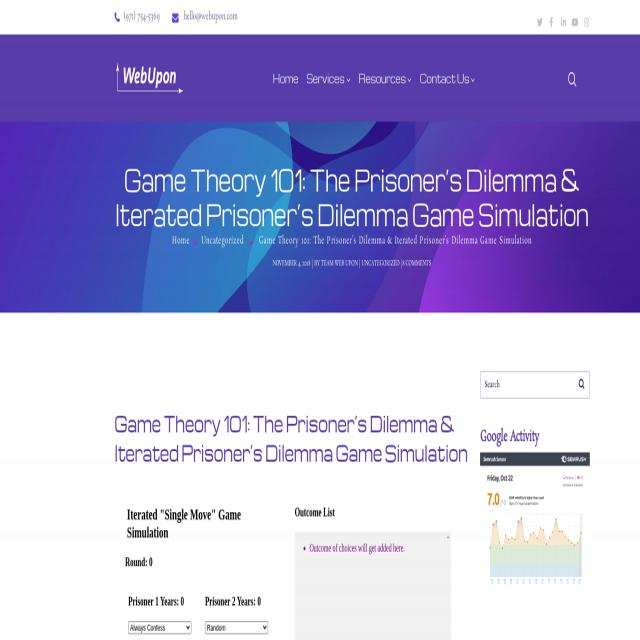button: (480, 452, 590, 586), (358, 50, 412, 107), (420, 50, 474, 107), (114, 61, 186, 96), (306, 50, 350, 107), (273, 50, 298, 107), (562, 60, 583, 98), (571, 15, 579, 29), (537, 18, 543, 28), (560, 18, 566, 28), (584, 18, 590, 28), (549, 18, 554, 28)
field: (480, 373, 589, 399), (128, 620, 192, 634), (205, 620, 268, 633)
